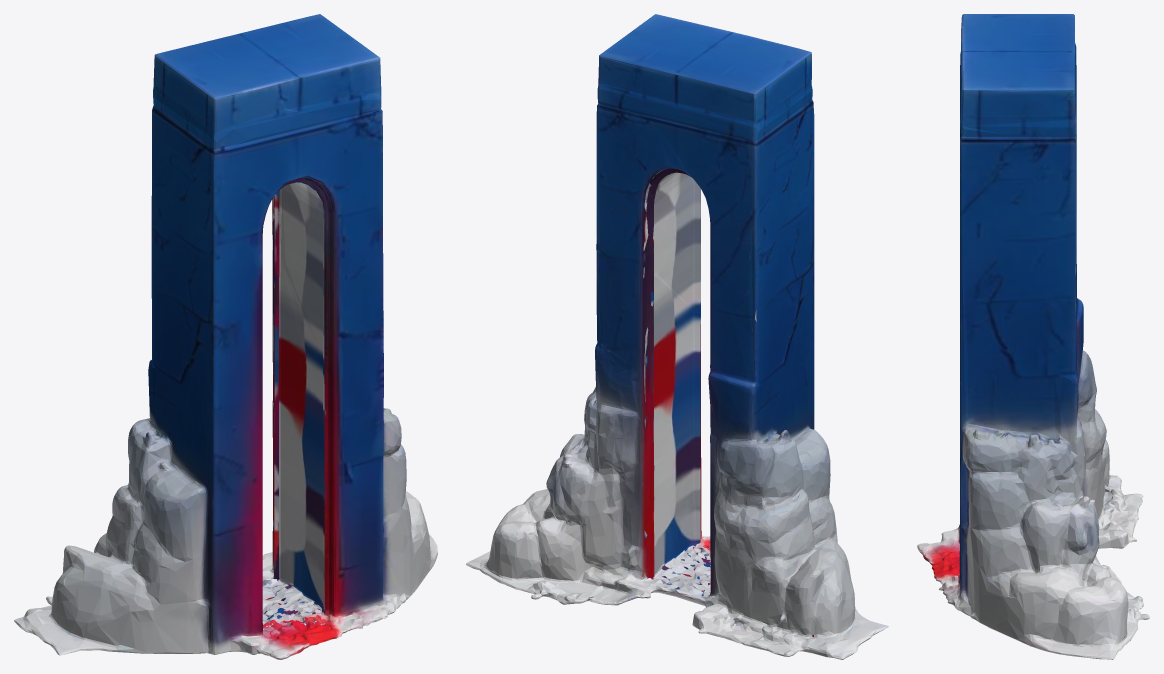
The model's file is weathered-monolith-pillar-generated-2026-04-18t22-01-36-007z-generated-2026-04-19T00-42-38-513Z.low.glb.
The picture shows the model from 3 angles, left to right: view 1: azimuth 30°, elevation 25°; view 2: azimuth 150°, elevation 25°; view 3: azimuth 270°, elevation 25°; orthographic projection. The views are drawn at different scales.
Visible parts, largest first — view 1: temp_mesh.ply; view 2: temp_mesh.ply; view 3: temp_mesh.ply.
Boxes of the visible parts, x1,y1,x2,y2 form: temp_mesh.ply: (14, 14, 437, 659); temp_mesh.ply: (466, 14, 888, 659); temp_mesh.ply: (917, 14, 1149, 659).
Size of the model in its own units: 1.5 by 1.97 by 0.8029.
Materials: 1 (1 with a texture image).
